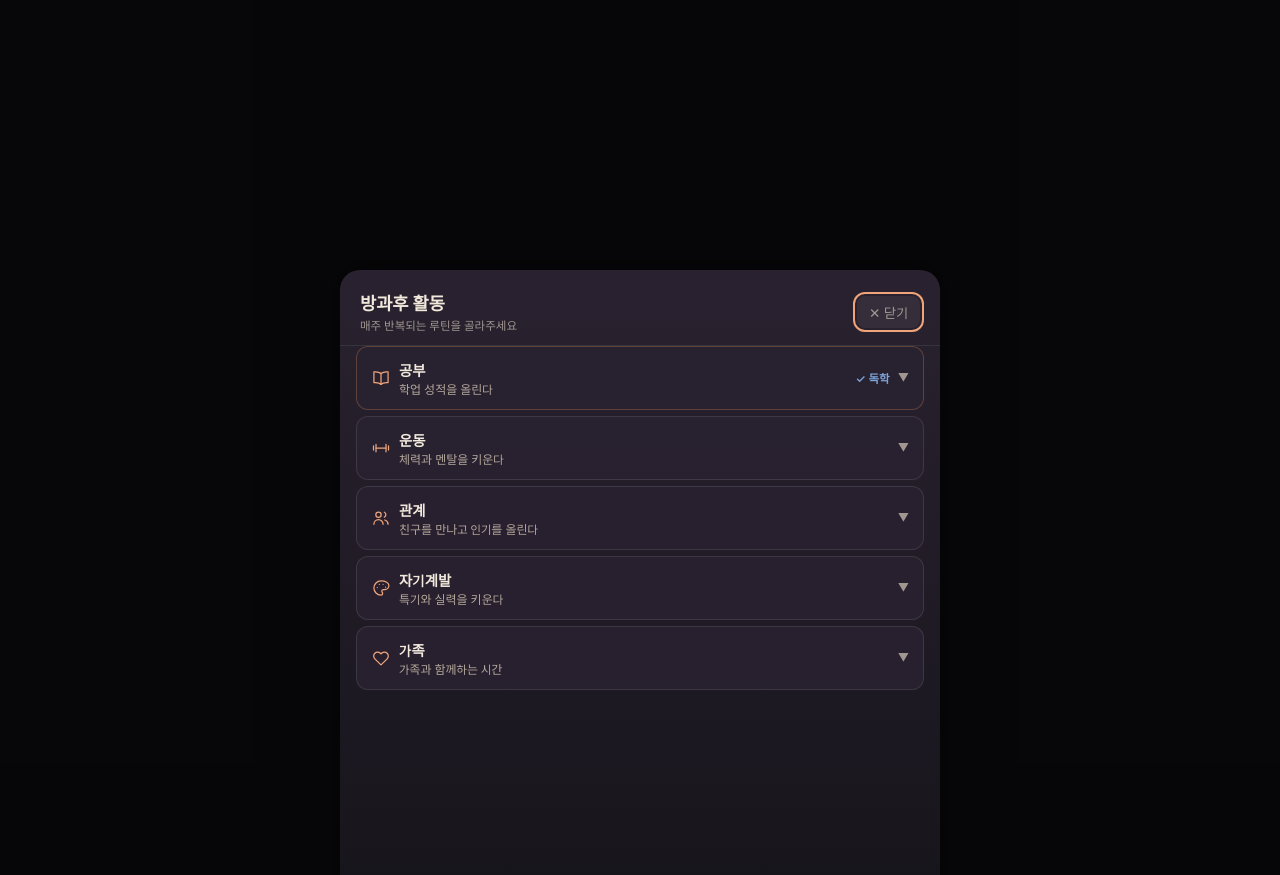
Test: 루틴 피커 — 이 선택 때문에 이번 주를 확정할 수 없게 되면 막는다(엔진 판정, 플래그 꺼짐에도 나가는 경로) › 잔액이 주 단가는 되고 한 달 몫(남은 3주)은 안 되면 학원을 못 고른다 — 이번 달 금액과 부족 표시
Click the button "공부 학업 성적을 올린다 ✓ 독학 ▼".
click(446, 390)  # box left=357, top=347, right=923, bottom=409
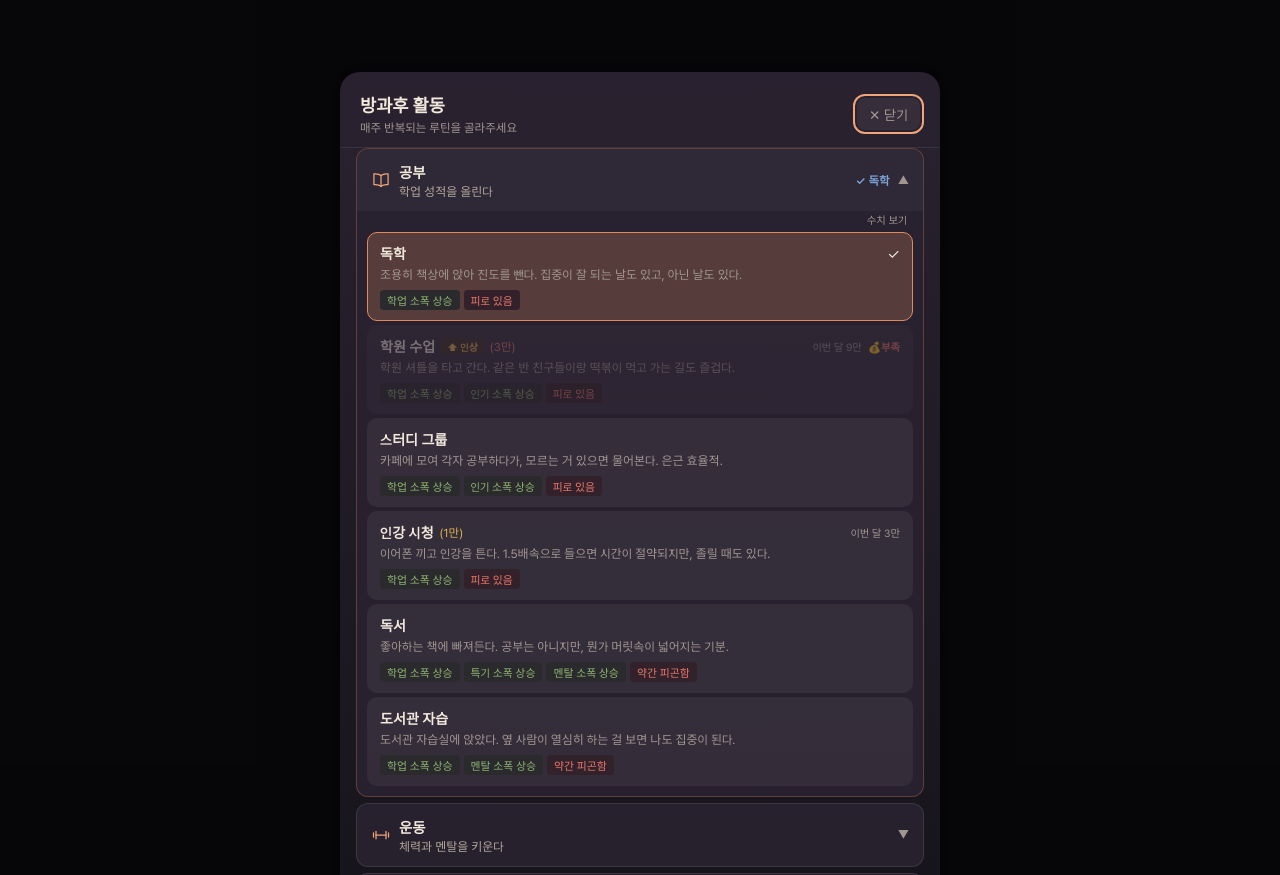
Expected: the button that starts with "학원 수업" is disabled, left=367, top=325, right=913, bottom=414
Expected: the button that starts with "학원 수업" shows "부족", left=367, top=325, right=913, bottom=414
